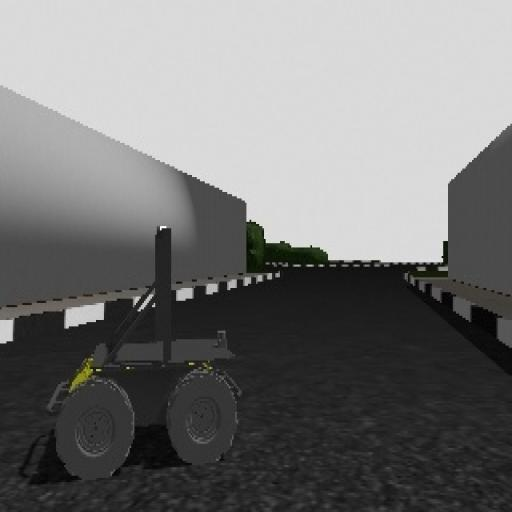huskya200: (46, 204, 259, 481)
